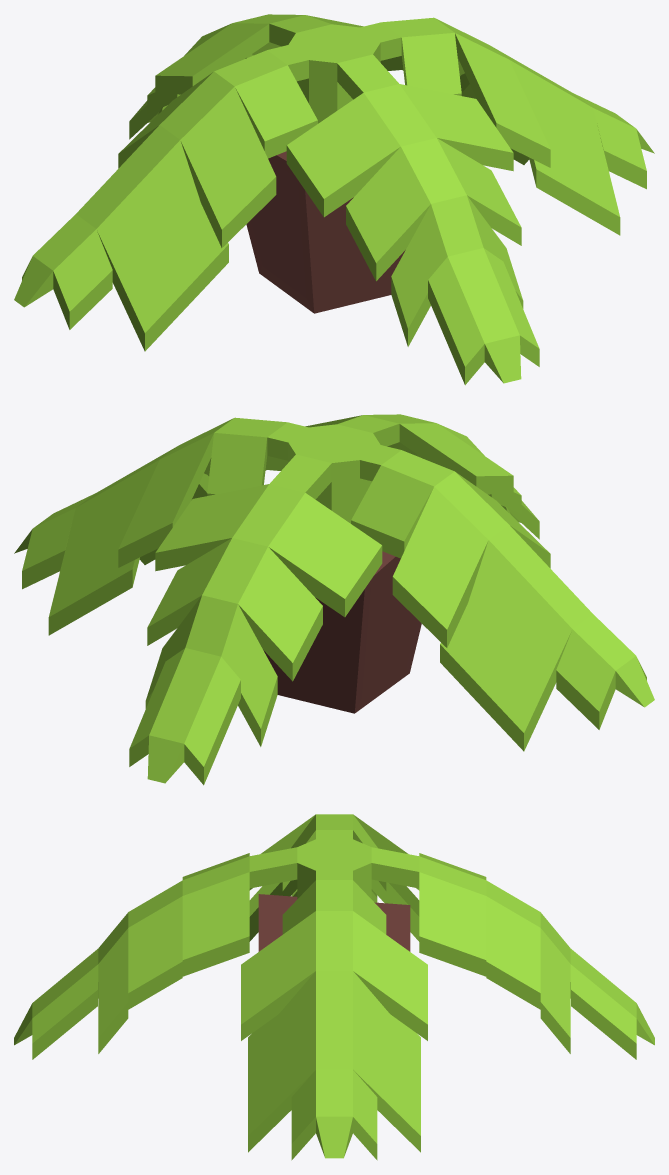
File: tree.fbx
3 views of the same model, one above another, from view 1: azimuth 30°, elevation 25°; view 2: azimuth 150°, elevation 25°; view 3: azimuth 270°, elevation 25° (orthographic). The views are drawn at different scales.
Parts seen in each view (by area): view 1: Plane, trunk; view 2: Plane, trunk; view 3: Plane, trunk.
Part boxes in pixels (left/top/right/bottom): Plane: left=14, top=14, right=654, bottom=385; trunk: left=246, top=151, right=405, bottom=313; Plane: left=14, top=414, right=654, bottom=785; trunk: left=263, top=551, right=421, bottom=713; Plane: left=14, top=814, right=654, bottom=1160; trunk: left=258, top=894, right=410, bottom=951.
Bounding box in the file's own units: 86.62 × 31.25 × 84.69.
